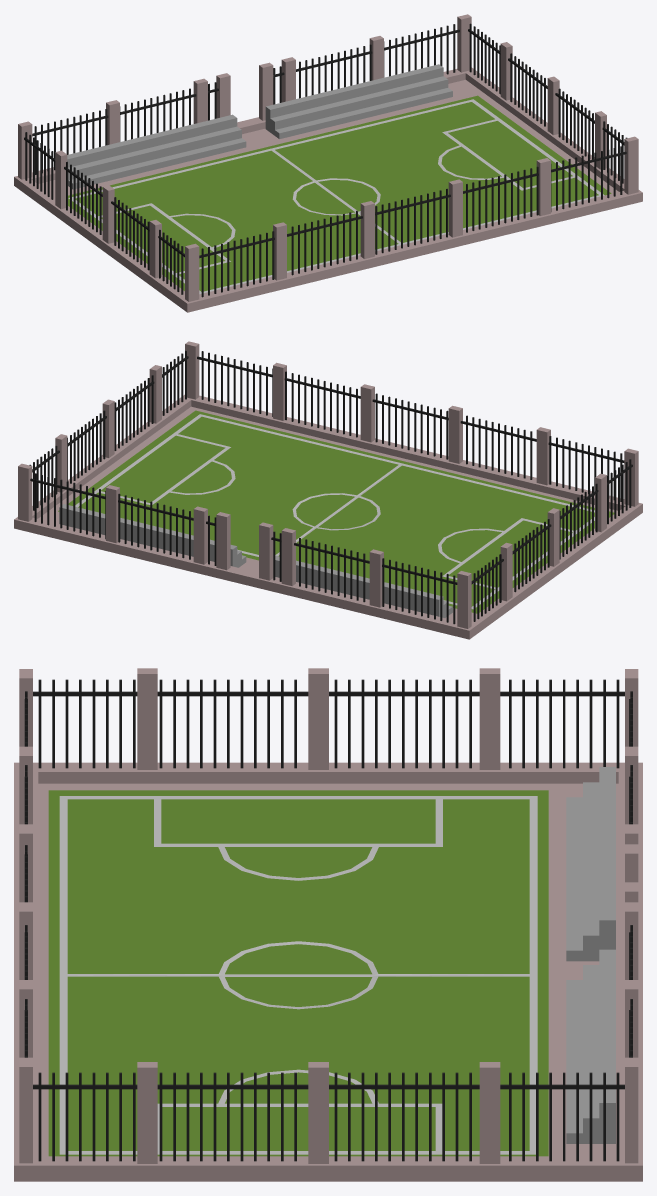
Rendered from Footballfield_01.fbx.
The picture shows the model from 3 angles, top to bottom: view 1: azimuth 30°, elevation 25°; view 2: azimuth 150°, elevation 25°; view 3: azimuth 270°, elevation 25°; orthographic projection. The views are drawn at different scales.
Parts seen in each view (by area): view 1: Footballfield_01; view 2: Footballfield_01; view 3: Footballfield_01.
Part boxes in pixels (bbox=[...]): Footballfield_01: bbox=[14, 14, 642, 312]; Footballfield_01: bbox=[14, 341, 642, 639]; Footballfield_01: bbox=[14, 668, 642, 1181].
Bounding box in the file's own units: 31.61 × 4.11 × 20.85.
